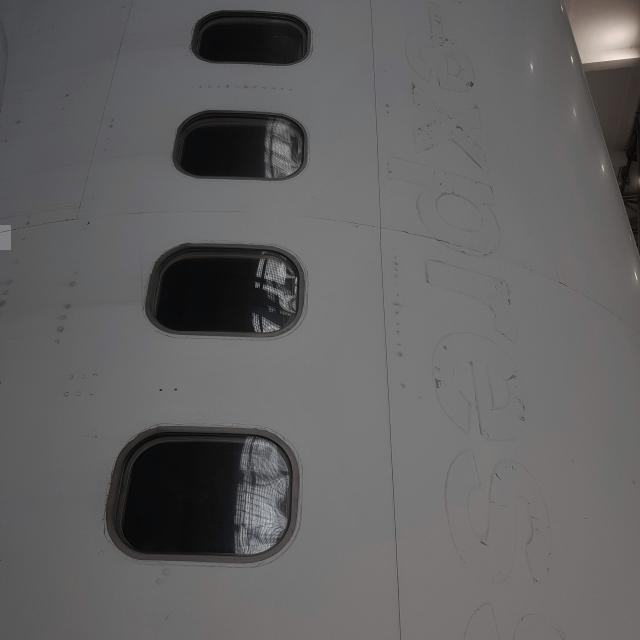crack: (1, 226, 12, 251)
